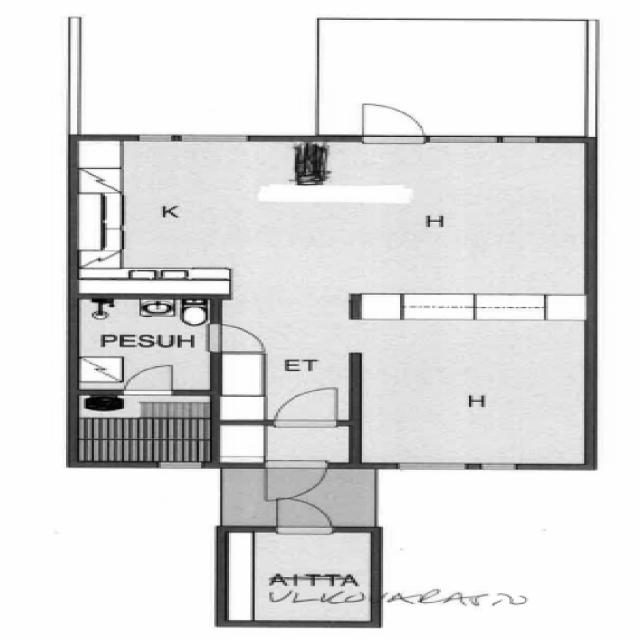door: (69, 135, 606, 301), (347, 296, 584, 469), (217, 526, 376, 623), (70, 297, 210, 390), (58, 390, 214, 466)
window: (120, 128, 254, 147), (390, 455, 520, 472), (434, 126, 526, 147), (152, 460, 196, 469)
zone: (255, 492, 352, 542), (349, 96, 422, 145), (279, 380, 352, 428), (261, 457, 337, 501), (206, 320, 266, 356), (122, 365, 183, 397)
